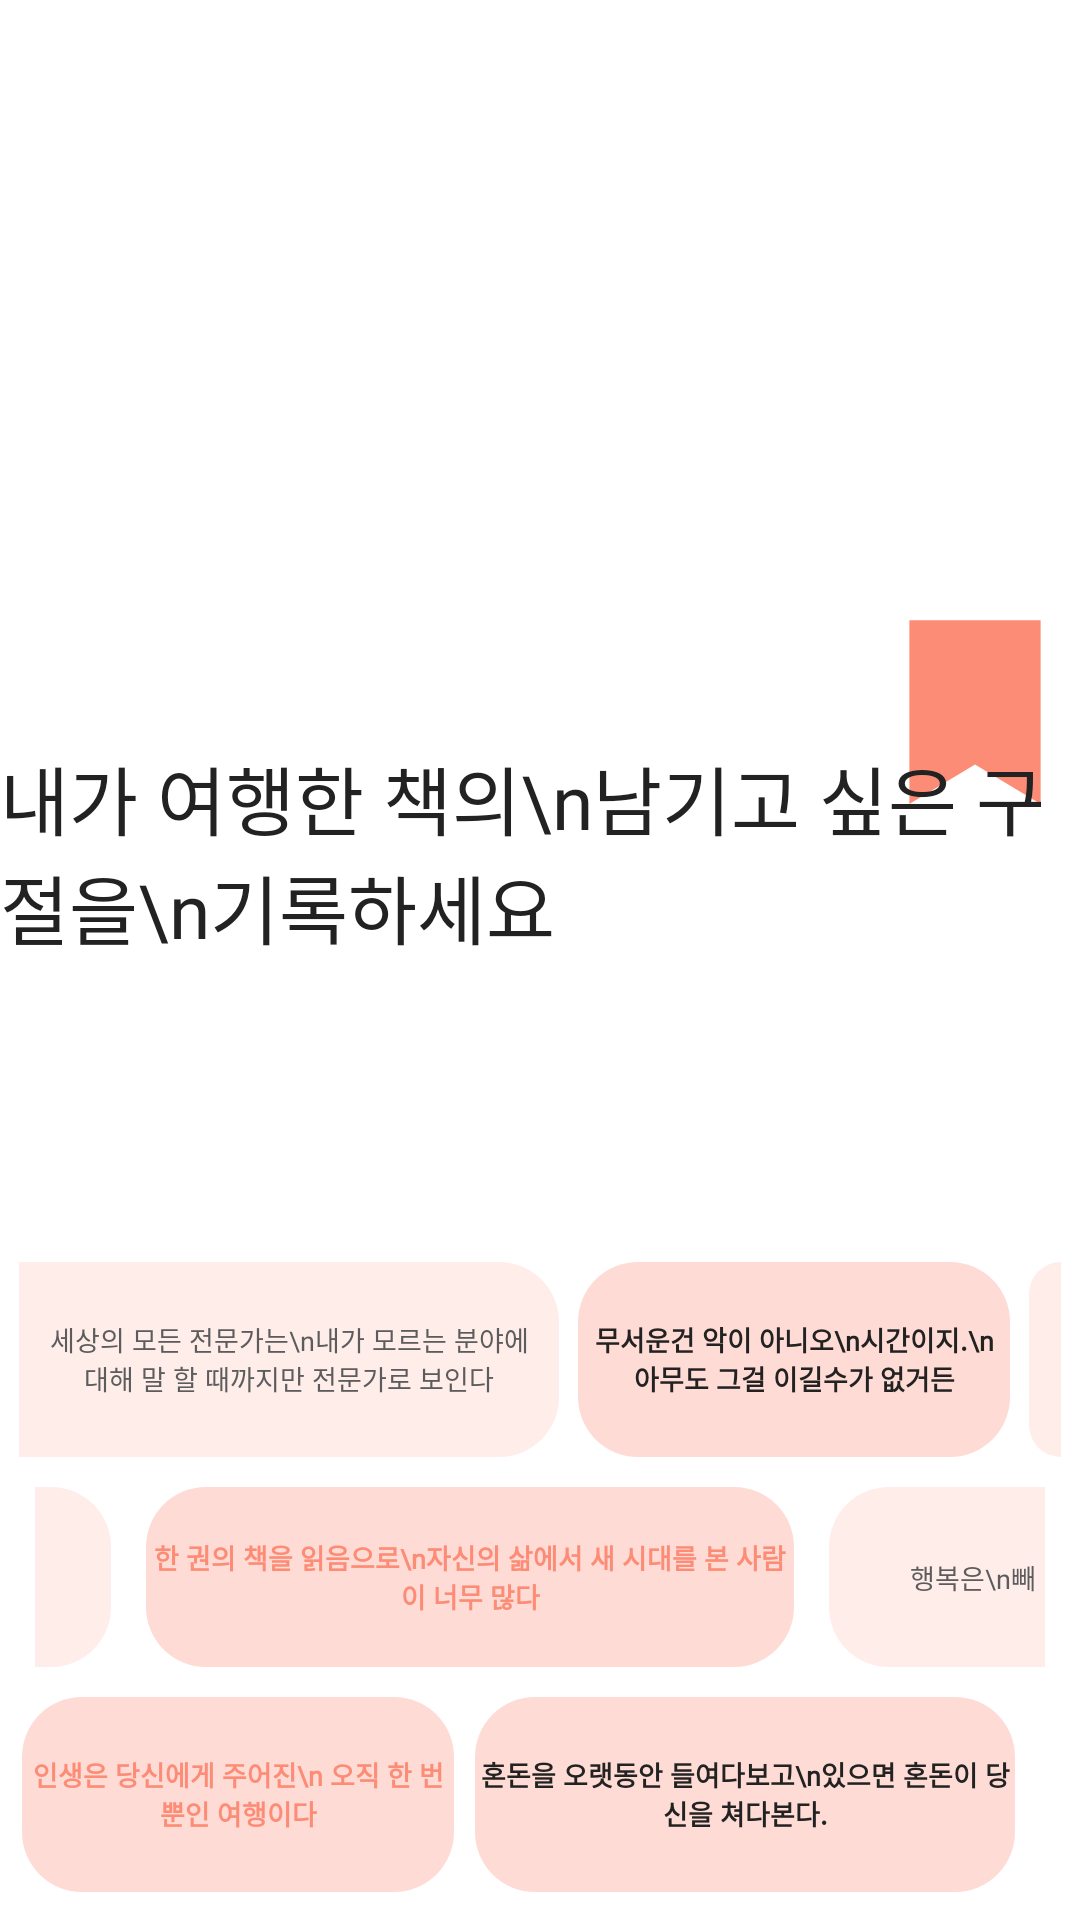

Where icons sit on this 1080x1920 app screen, as {"x1": x1, "y1": y1, "x2": x2, "y2": y2}:
bookmark: {"x1": 870, "y1": 620, "x2": 1041, "y2": 817}
